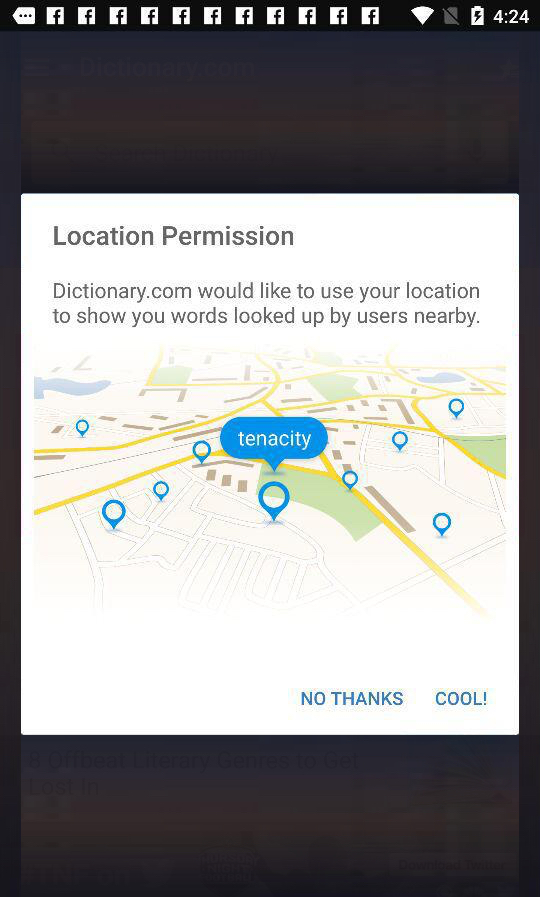Map: (34, 345, 507, 627)
Modal: (22, 193, 519, 736)
Text: (53, 281, 481, 329), (54, 225, 295, 247), (301, 690, 404, 706), (435, 691, 487, 706)
UpperTaskBar: (1, 1, 540, 33)
